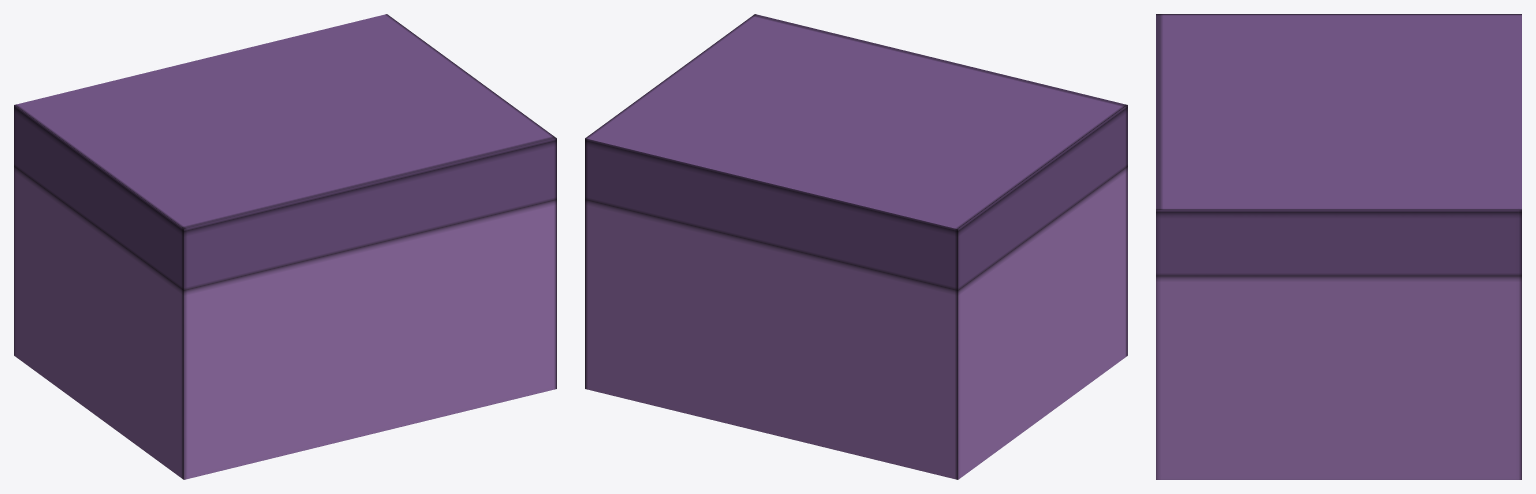
The model's file is case1.fbx.
The picture shows the model from 3 angles, left to right: view 1: azimuth 30°, elevation 25°; view 2: azimuth 150°, elevation 25°; view 3: azimuth 270°, elevation 25°; orthographic projection. The views are drawn at different scales.
Visible parts, largest first — view 1: polySurface1562; view 2: polySurface1562; view 3: polySurface1562.
Boxes of the visible parts, x1=… form: polySurface1562: x1=14, y1=14, x2=556, y2=479; polySurface1562: x1=585, y1=14, x2=1127, y2=479; polySurface1562: x1=1156, y1=14, x2=1521, y2=479.
Bounding box in the file's own units: 0.3513 × 0.2256 × 0.277.
